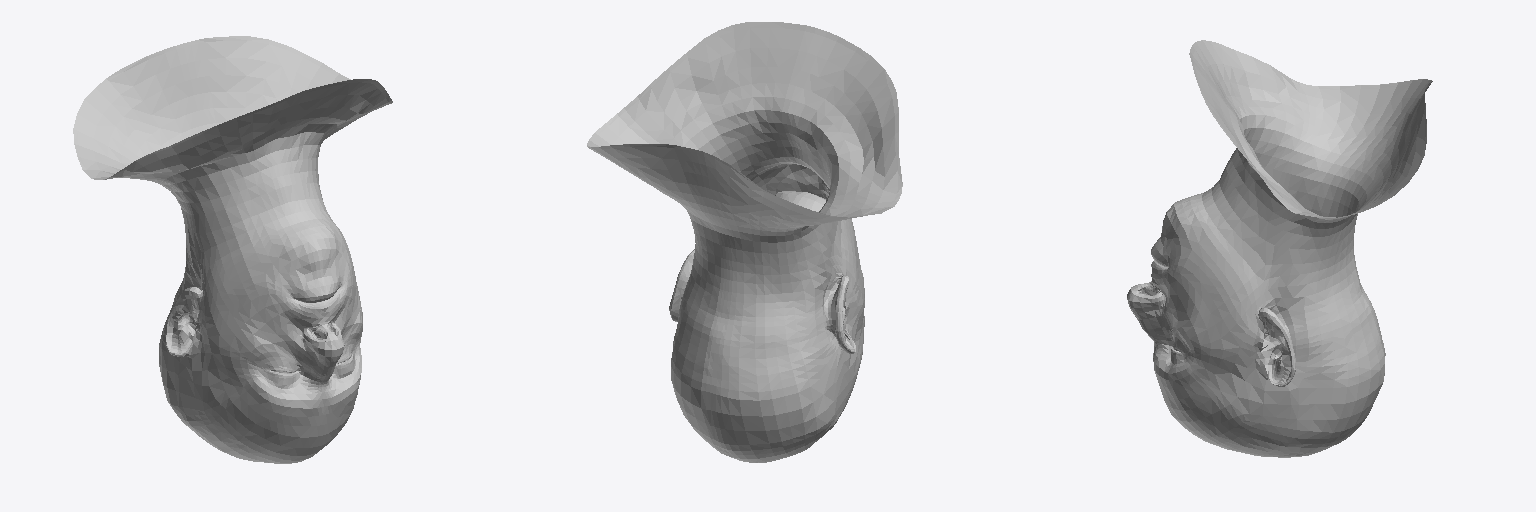
File: head-mod.obj
The picture shows the model from 3 angles: view 1: azimuth 30°, elevation 25°; view 2: azimuth 150°, elevation 25°; view 3: azimuth 270°, elevation 25°; orthographic projection.
Visible parts, largest first — view 1: Head; view 2: Head; view 3: Head.
Boxes of the visible parts, <box> form: Head: <box>73,36,392,463</box>; Head: <box>587,22,902,462</box>; Head: <box>1127,40,1432,457</box>.
Size of the model in its own units: 1.48 by 1.92 by 1.35.